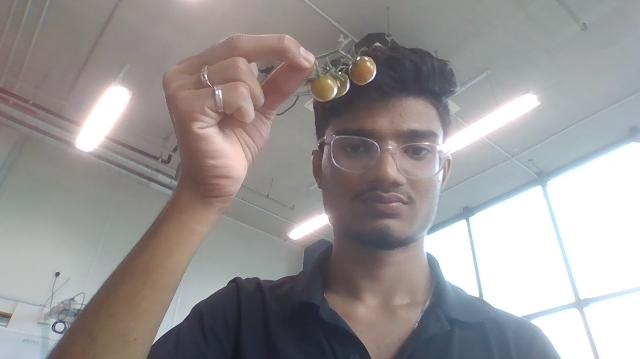Fully Grown: (349, 55, 377, 86), (310, 73, 338, 103), (332, 72, 350, 98)
